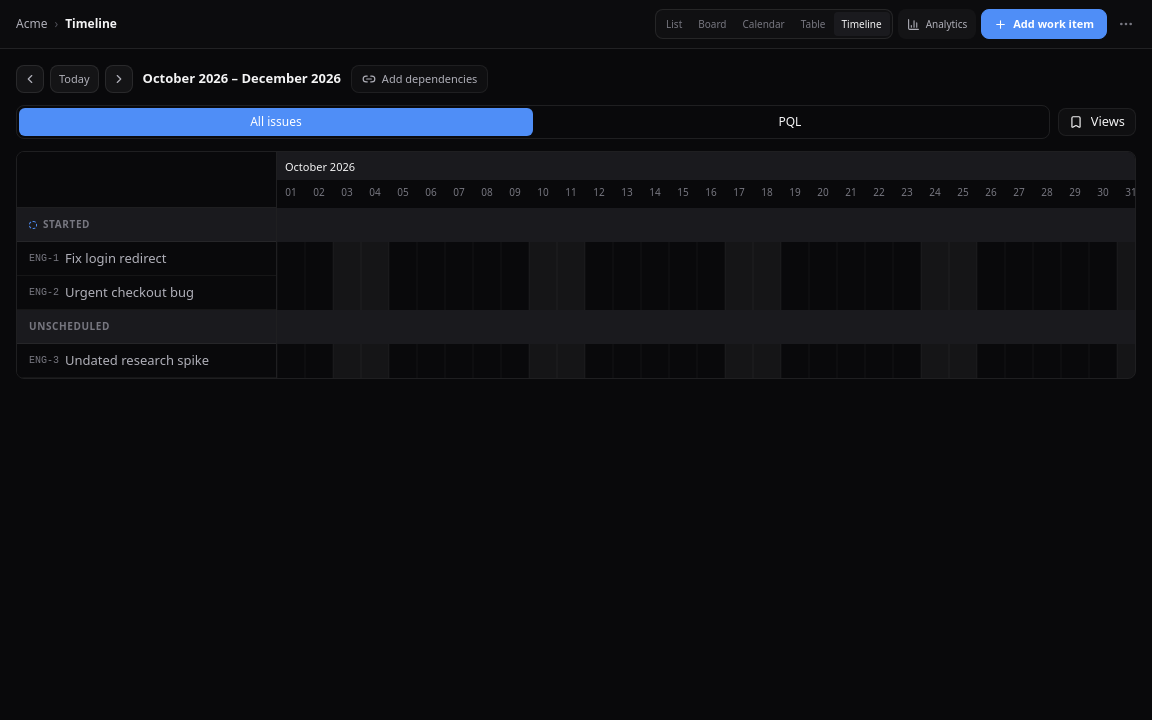
Test: Gantt saved views (C110T2) › applying a view while already in PQL mode re-seeds the editor
The image size is (1152, 720).
Check: the text "Fix login redirect" is shown, box [65, 249, 166, 268]
Check: the text "Urgent checkout bug" is shown, box [65, 283, 194, 302]
Click the button with aria-label "Saved views": (1097, 122) [1058, 108, 1136, 136]
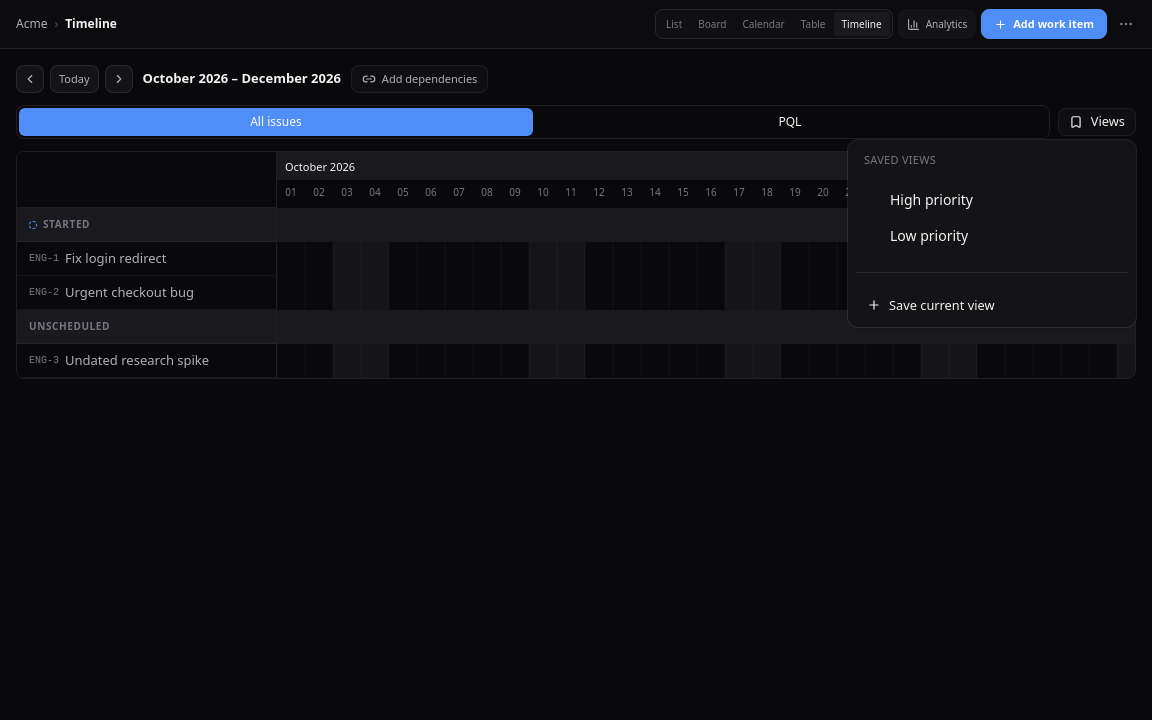
Check: the button "Save current view" is shown, box [856, 291, 1128, 319]
Click the button titled "Apply view “High priority”": (932, 200) [860, 184, 1004, 216]
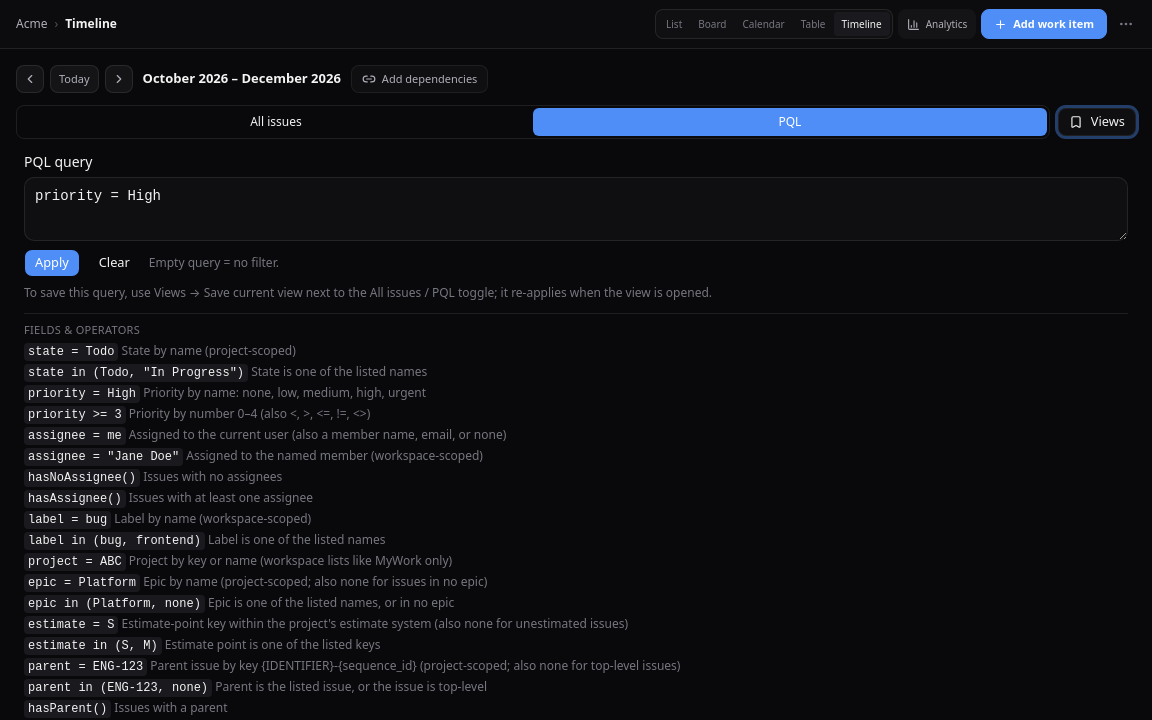
Check: the button "Fix login redirect" is gone
Check: the text box labelled "PQL query" holds "priority = High", box [24, 177, 1128, 241]
Click the button with aria-label "Saved views": (1097, 122) [1058, 108, 1136, 136]
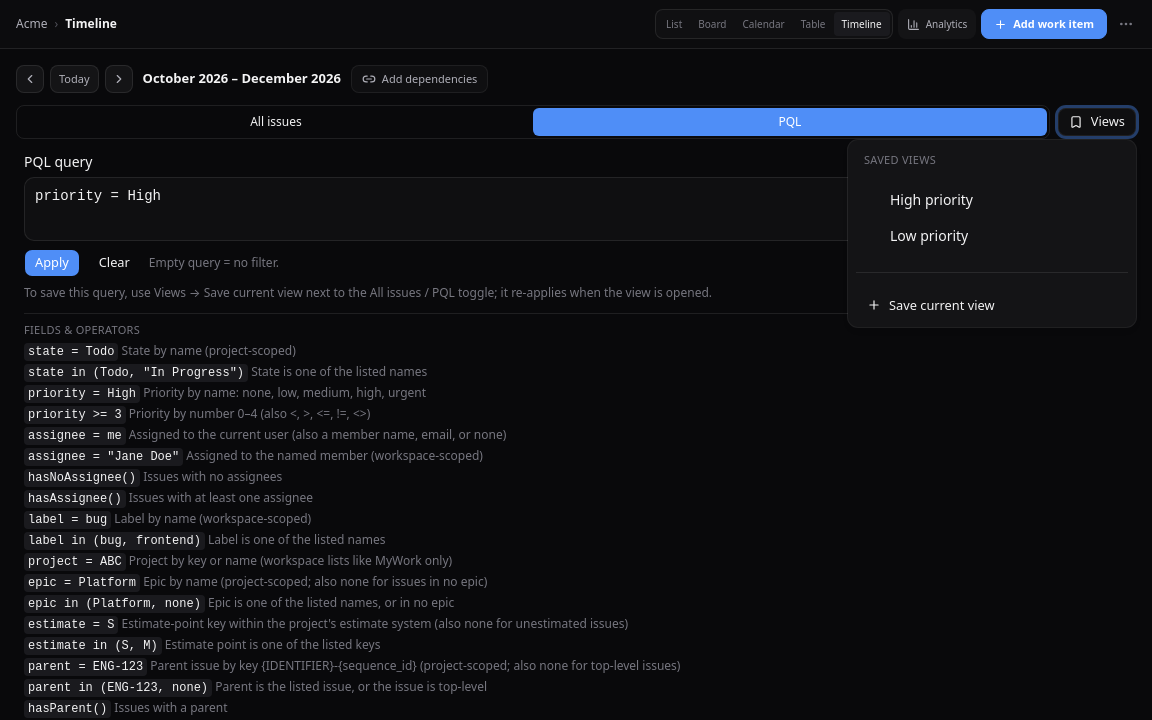
Check: the button "Save current view" is shown, box [856, 291, 1128, 319]
Click the button titled "Apply view “Low priority”": (932, 236) [860, 220, 1004, 252]
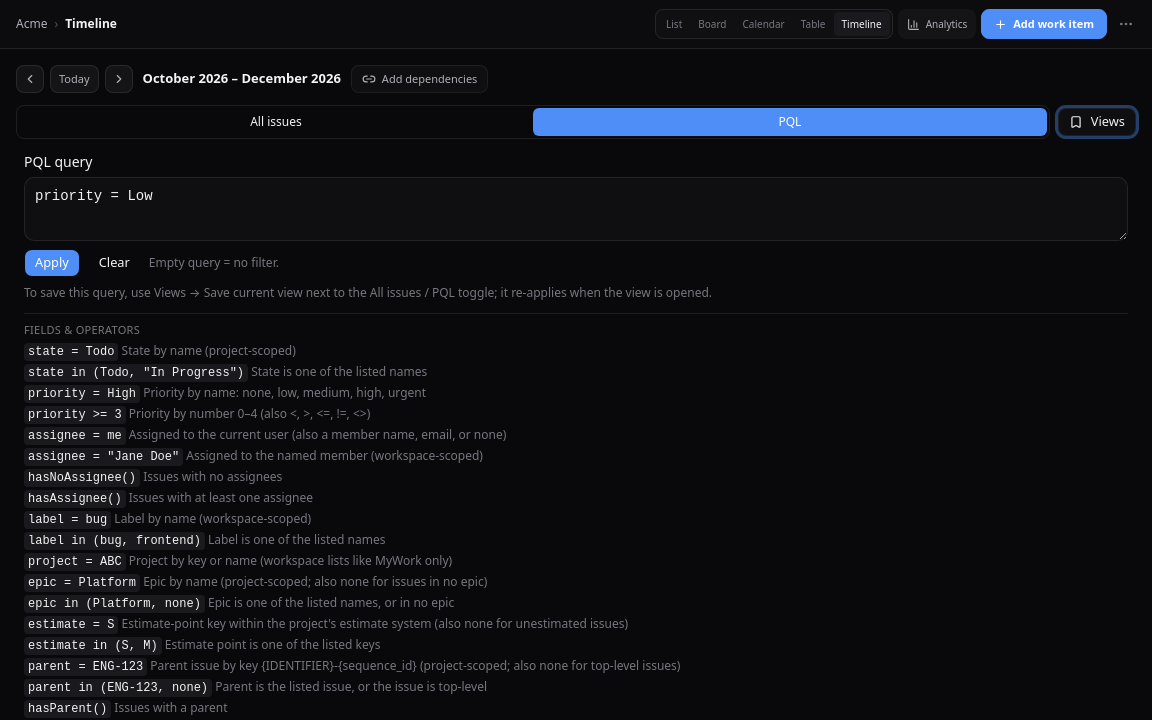
Check: the button "Urgent checkout bug" is not shown
Check: the text box labelled "PQL query" holds "priority = Low", box [24, 177, 1128, 241]
